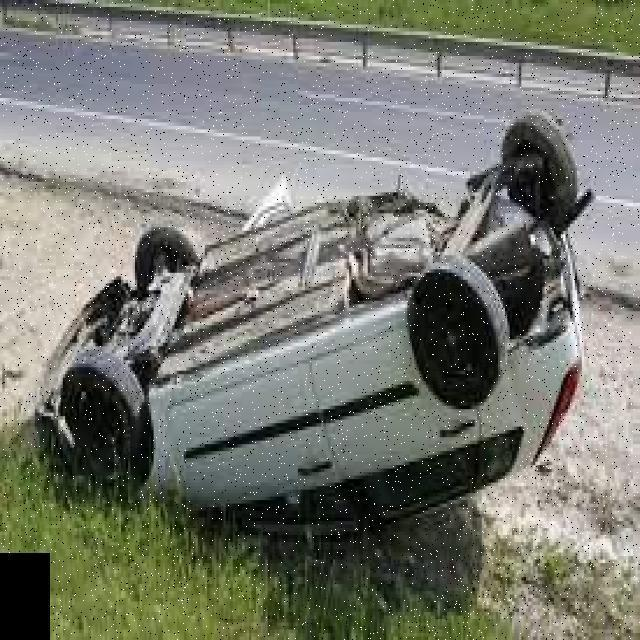accident: (25, 103, 600, 551)
